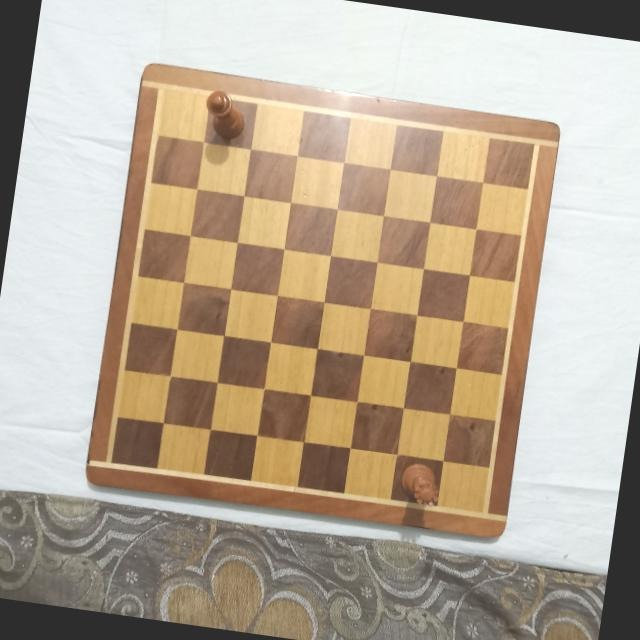white-king: (199, 87, 248, 142)
white-queen: (396, 461, 443, 511)
